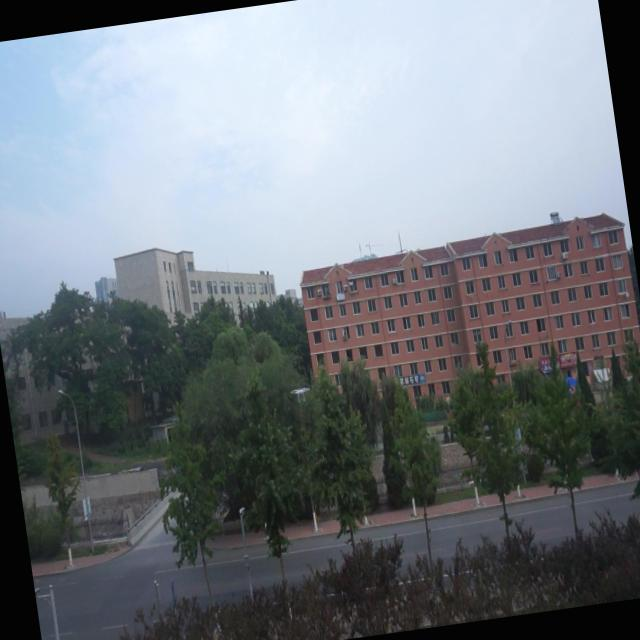drone: (288, 378, 313, 404)
